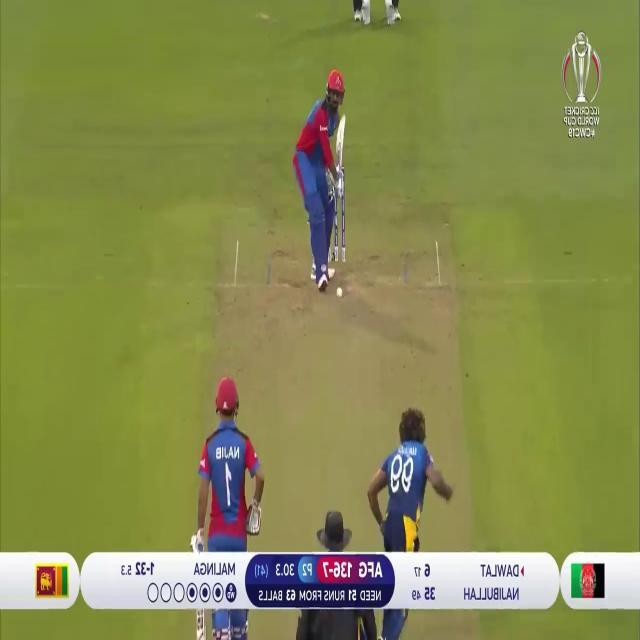ball: (336, 284, 344, 300)
